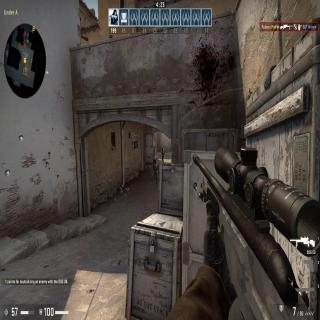CT-Body: (153, 156, 159, 184)
CT-Head: (161, 147, 165, 162), (154, 157, 156, 162), (162, 147, 164, 150)
